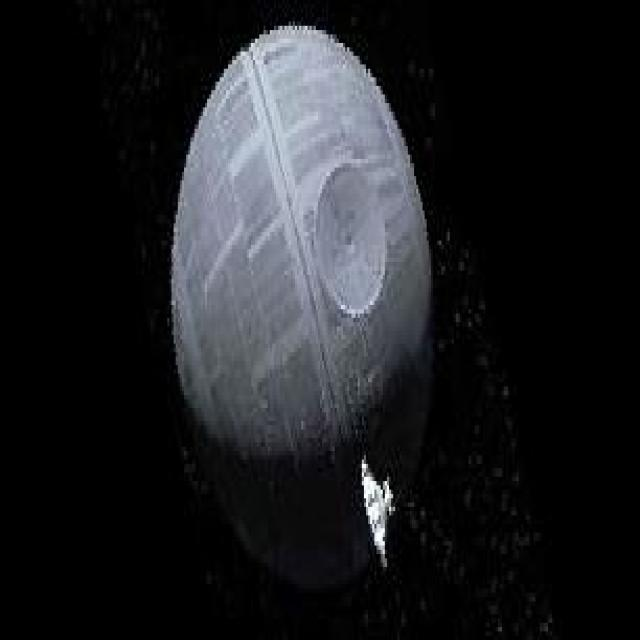Death Star: (169, 22, 440, 588)
